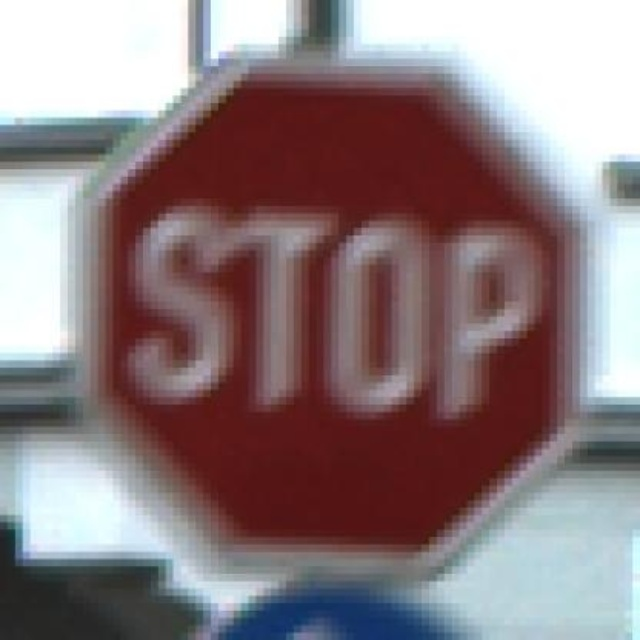Dừng lại: (97, 56, 577, 564)
